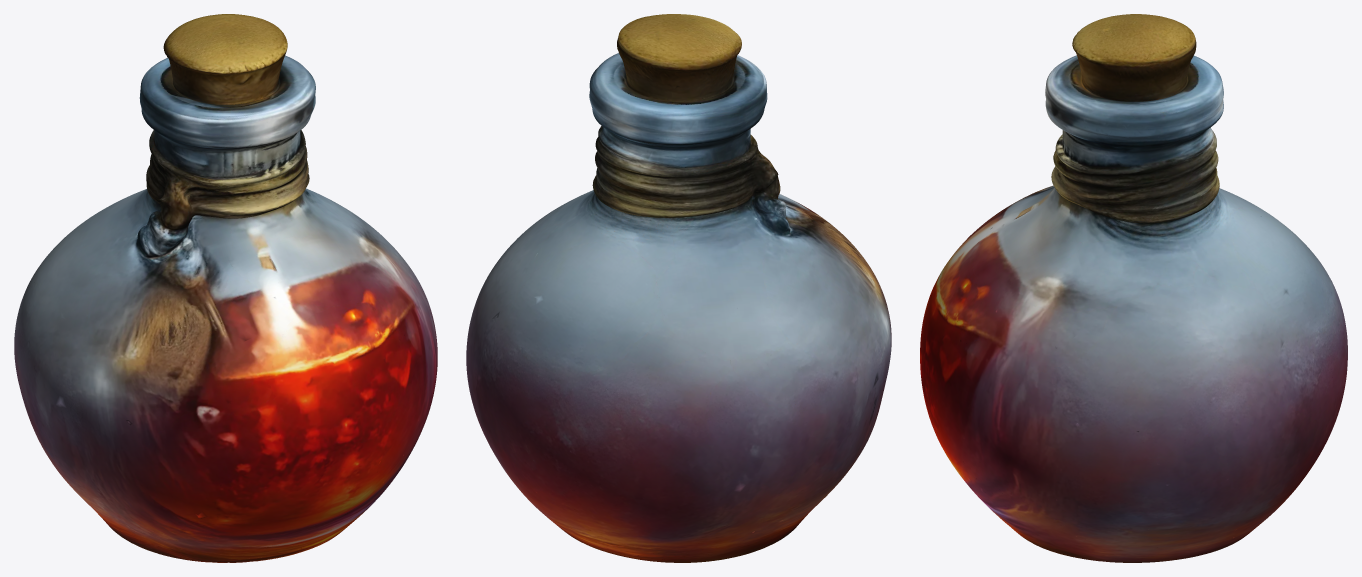
File: potion_bottle.glb
3 views of the same model, side by side, from view 1: azimuth 30°, elevation 25°; view 2: azimuth 150°, elevation 25°; view 3: azimuth 270°, elevation 25° (orthographic).
Parts seen in each view (by area): view 1: material; view 2: material; view 3: material.
Part boxes in pixels (<box>): material: <box>14,14,437,562</box>; material: <box>466,14,891,562</box>; material: <box>920,14,1347,562</box>.
Bounding box in the file's own units: 0.8643 × 1.09 × 0.8703.
1 material, 1 textured.
